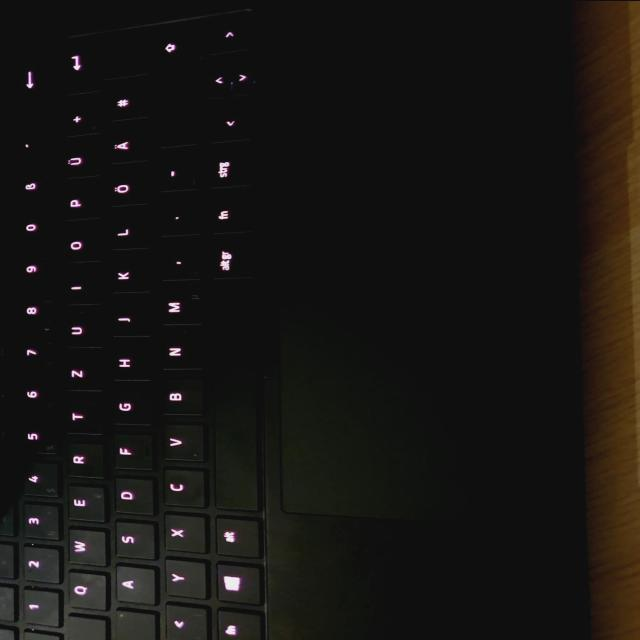0: (16, 208, 56, 246)
1: (20, 589, 59, 627)
2: (20, 546, 59, 584)
3: (20, 503, 60, 541)
4: (21, 461, 59, 497)
5: (18, 418, 58, 456)
6: (17, 376, 58, 414)
7: (17, 335, 57, 371)
8: (17, 292, 57, 331)
9: (16, 251, 56, 287)
a: (112, 566, 156, 606)
accent: (16, 124, 56, 162)
ae: (107, 124, 149, 165)
alt-left: (212, 517, 260, 559)
altgr-right: (208, 241, 256, 281)
b: (158, 378, 204, 418)
c: (159, 468, 205, 510)
caret: (19, 632, 59, 640)
comma: (156, 244, 202, 284)
d: (110, 477, 154, 517)
del: (16, 40, 56, 122)
e: (63, 485, 105, 524)
enter: (59, 26, 150, 98)
f: (109, 433, 153, 472)
g: (109, 389, 153, 427)
h: (108, 345, 152, 383)
hash: (104, 78, 150, 123)
i: (61, 270, 101, 306)
j: (108, 301, 152, 339)
k: (107, 257, 151, 295)
keyboard: (0, 4, 273, 640)
l: (108, 213, 150, 252)
less: (162, 604, 208, 640)
m: (156, 288, 204, 328)
minus: (154, 153, 200, 194)
n: (157, 334, 203, 373)
o: (60, 227, 102, 265)
oe: (106, 169, 150, 209)
p: (59, 183, 101, 222)
plus: (61, 96, 101, 138)
point: (156, 199, 201, 239)
q: (65, 571, 106, 612)
r: (63, 441, 105, 480)
s: (111, 521, 155, 561)
shift-lock: (111, 610, 156, 640)
shift-right: (153, 19, 198, 151)
space: (210, 285, 258, 513)
ss: (17, 167, 57, 205)
strg-right: (206, 148, 254, 190)
t: (63, 400, 103, 437)
tab: (62, 616, 106, 640)
u: (61, 312, 103, 350)
ue: (60, 139, 102, 179)
v: (158, 423, 204, 464)
w: (64, 529, 106, 567)
x: (160, 514, 205, 554)
y: (162, 559, 206, 600)
z: (62, 356, 103, 394)
